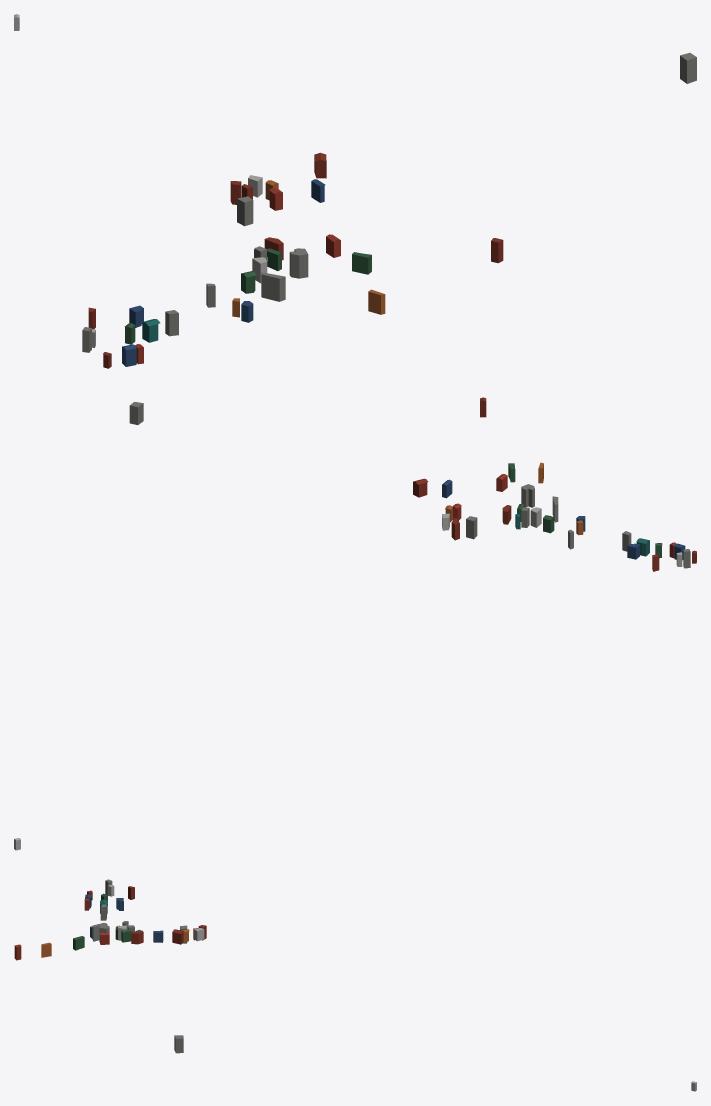
File: near-15-27353-14878.f7bbf194.glb
3 views of the same model, one above another, from view 1: azimuth 30°, elevation 25°; view 2: azimuth 150°, elevation 25°; view 3: azimuth 270°, elevation 25° (orthographic). The views are drawn at different scales.
Size of the model in its own units: 730 by 221 by 1036.
